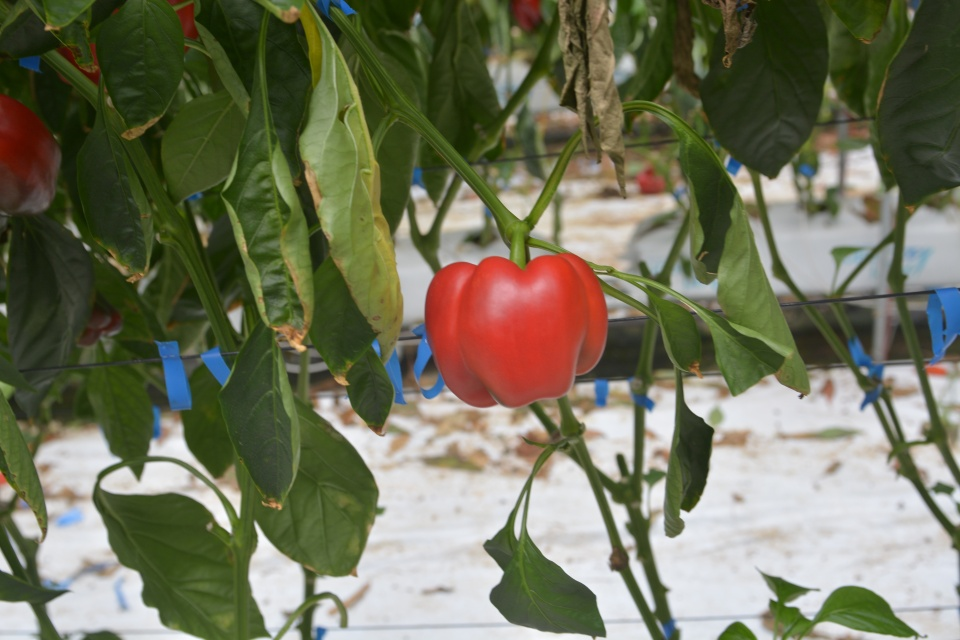fruit: (421, 250, 611, 412), (55, 1, 201, 93), (0, 92, 63, 222), (75, 300, 123, 347)
